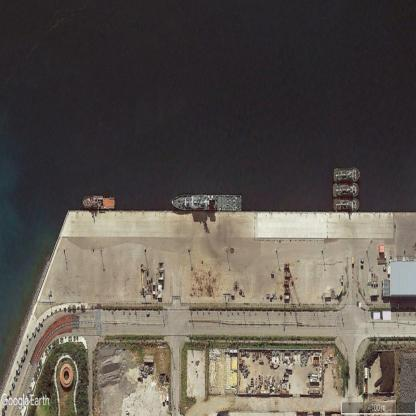ship: (172, 194, 242, 211), (82, 195, 115, 210), (333, 167, 360, 183), (333, 182, 359, 197), (333, 198, 359, 212)
